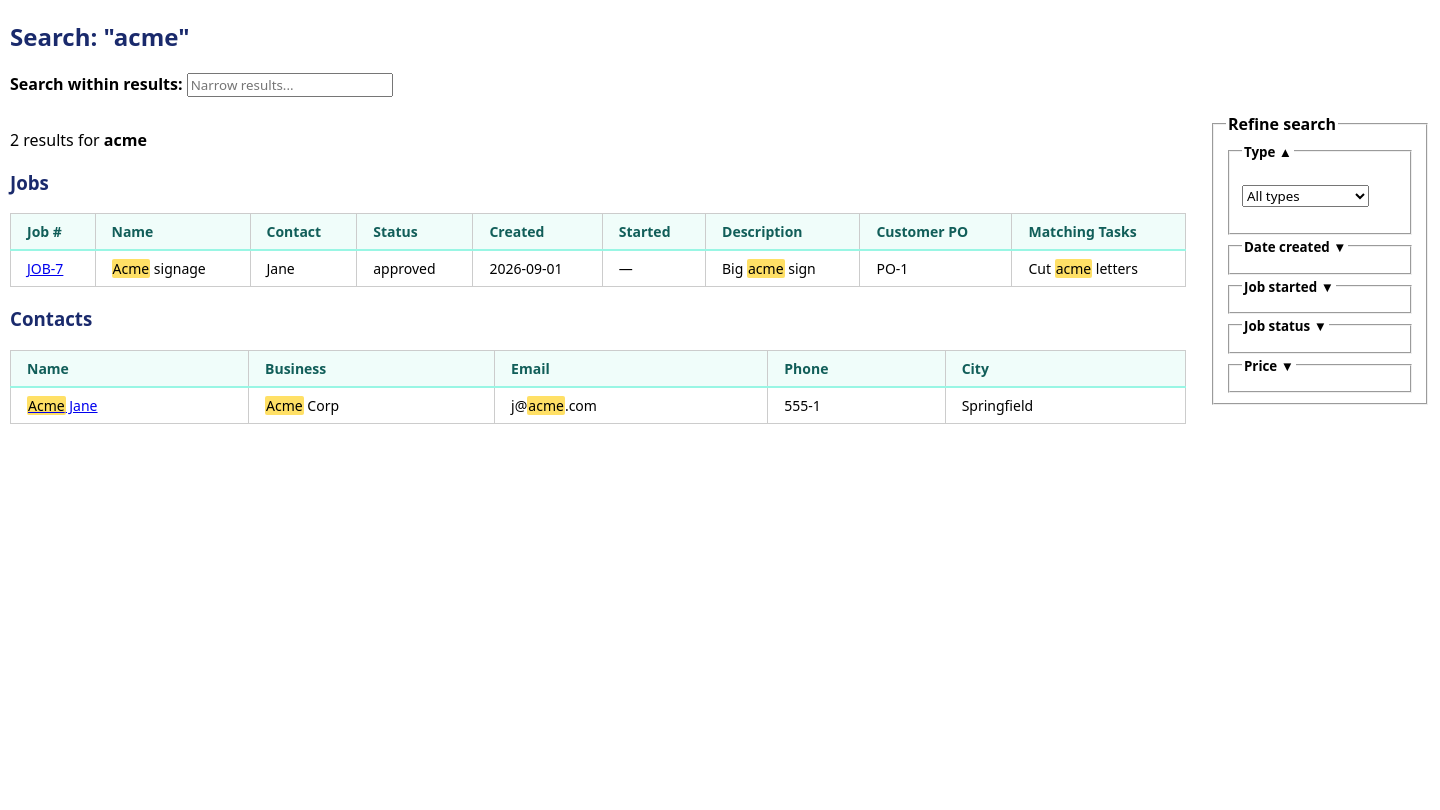
Test case: Search job-status filter › offers an Archived option
Expected: the table with class "data-table" that starts with "Job #" is shown, x1=10 y1=213 x2=1186 y2=287
Click the button "Job status ▼".
click(1285, 326)  # box x1=1244 y1=317 x2=1327 y2=335
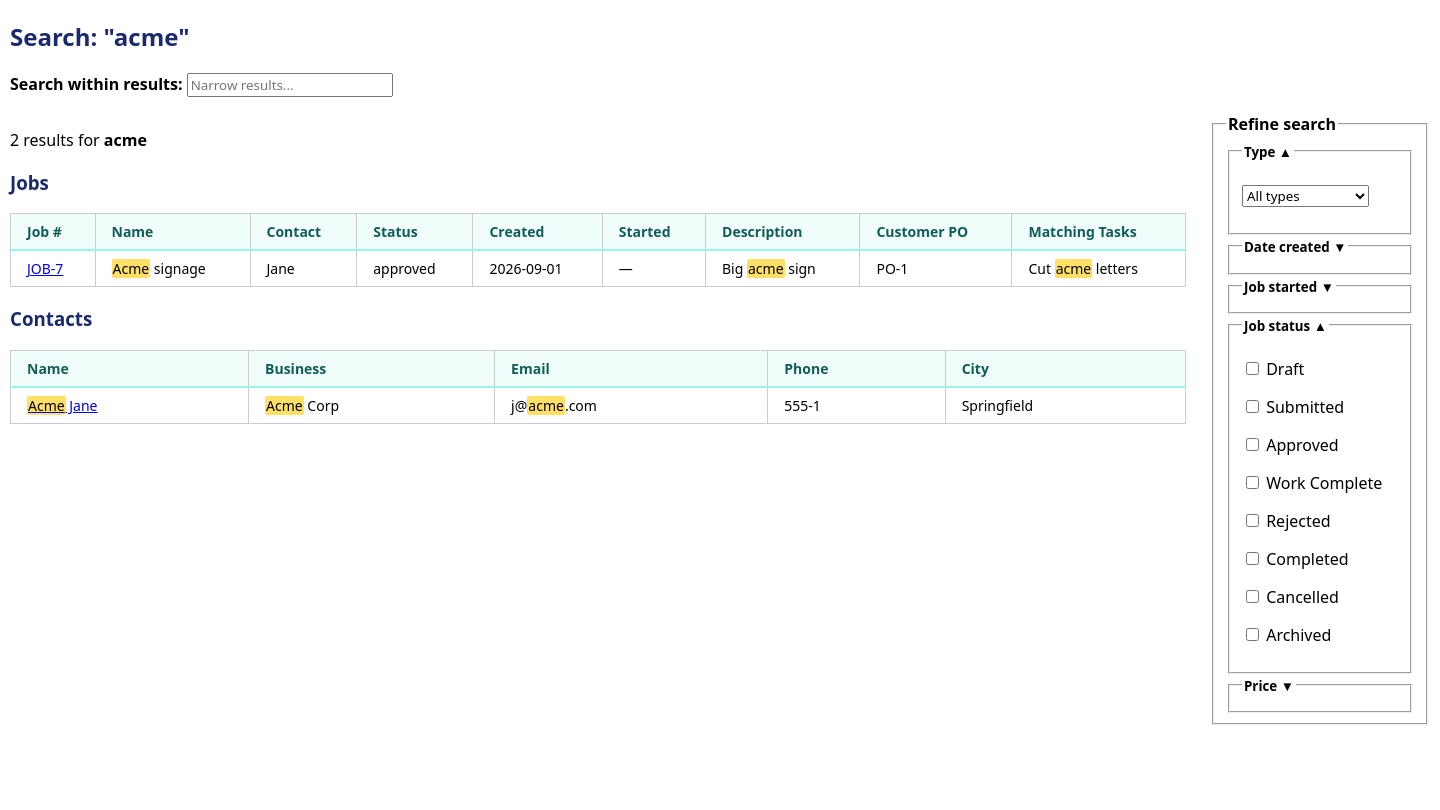
Now the text "Archived" is shown, box x1=1242 y1=624 x2=1331 y2=646
